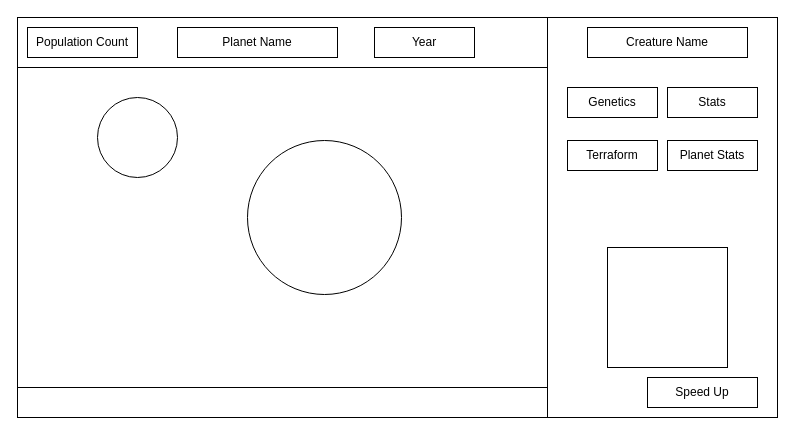
Some shapes in this 795 by 435 pixel diagram are drawn without their labels. The shapes that lost their labels are listed below. From the top down, each one's box as (x1, y1, x2, y2) in pixels, then its label:
(96, 96, 178, 178): Sun
(246, 140, 402, 294): Planet
(606, 246, 728, 368): Creature
(16, 386, 548, 418): Recent Ongoings/News
